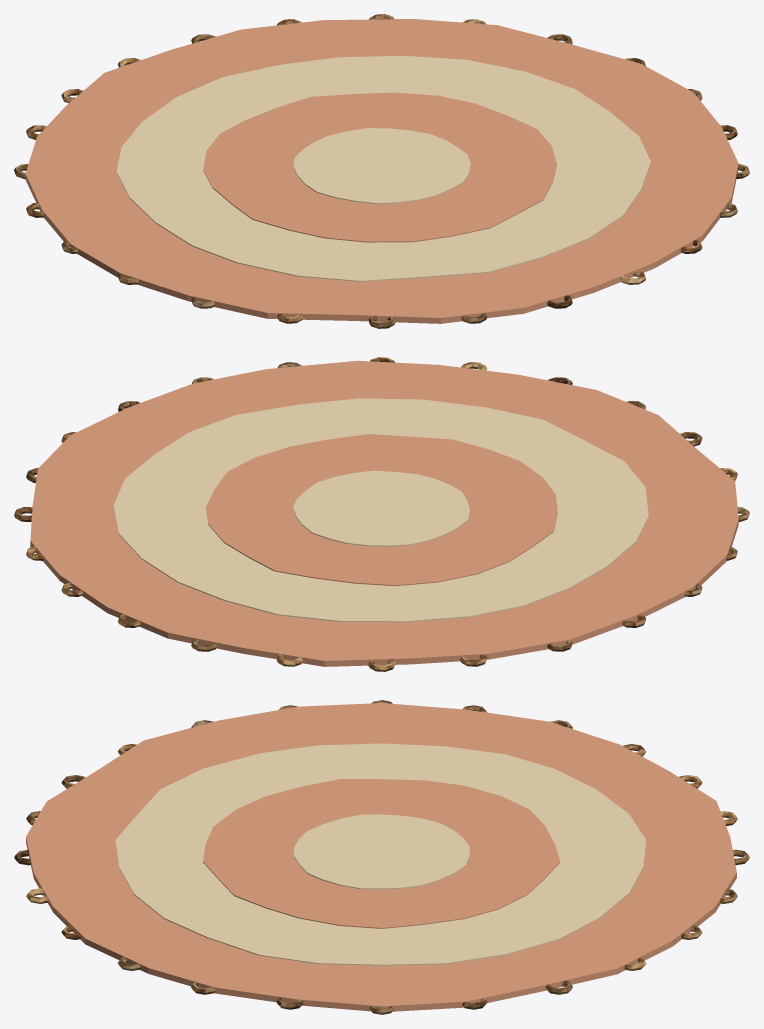
File: hearth_rug.glb
3 renders of one model, top to bottom at view 1: azimuth 30°, elevation 25°; view 2: azimuth 150°, elevation 25°; view 3: azimuth 270°, elevation 25°, orthographic.
Parts seen in each view (by area): view 1: model; view 2: model; view 3: model.
Part boxes in pixels (x1,y1,x2,y2): model: [14, 14, 749, 328]; model: [14, 357, 749, 671]; model: [14, 700, 749, 1014].
Bounding box in the file's own units: 1.35 × 0.018 × 1.35.
5 materials, 3 textured.
